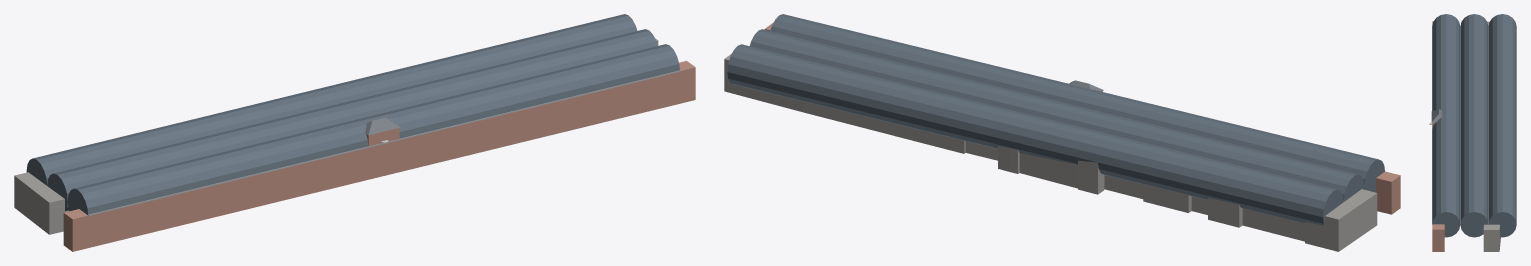
File: landmark-basel-sbb.68f333a284.glb
3 views of the same model, side by side, from view 1: azimuth 30°, elevation 25°; view 2: azimuth 150°, elevation 25°; view 3: azimuth 270°, elevation 25° (orthographic). The views are drawn at different scales.
Visible parts, largest first — view 1: building; view 2: building; view 3: building.
Part boxes in pixels (x1=…): building: x1=14, y1=14, x2=695, y2=251; building: x1=724, y1=14, x2=1400, y2=251; building: x1=1429, y1=14, x2=1516, y2=251.
Size of the model in its own units: 320 by 26.02 by 56.68.
